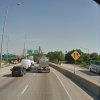Tree: (51, 42, 90, 69)
